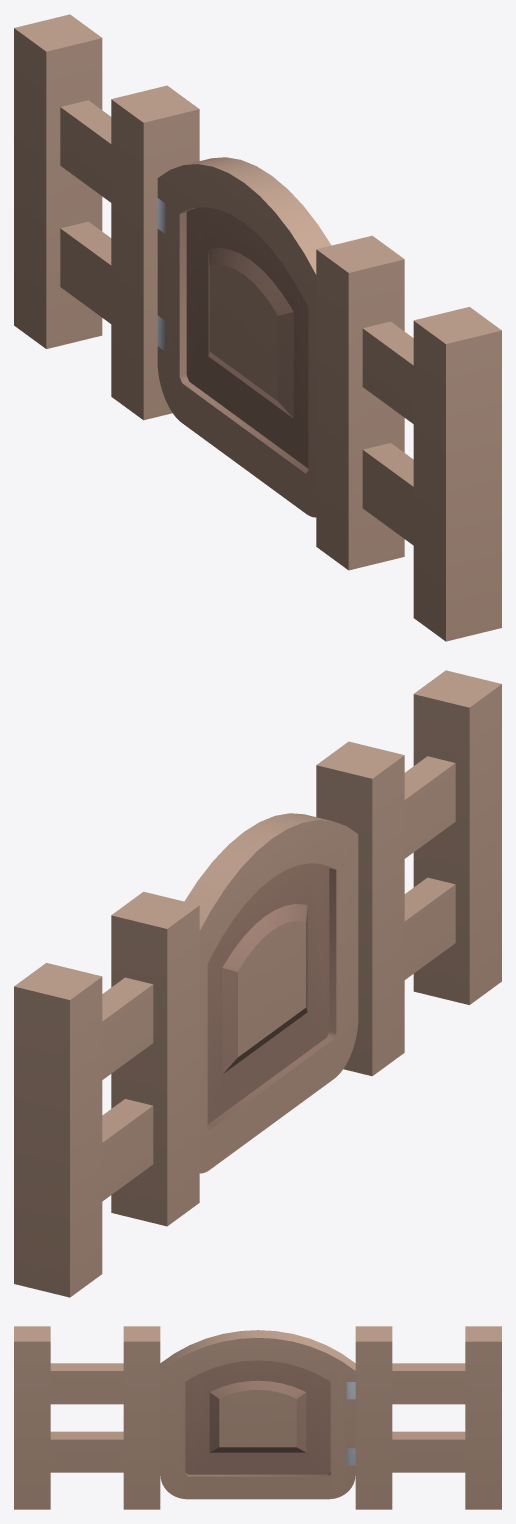
The model's file is fence-gate.glb.
The picture shows the model from 3 angles, top to bottom: view 1: azimuth 30°, elevation 25°; view 2: azimuth 150°, elevation 25°; view 3: azimuth 270°, elevation 25°; orthographic projection. The views are drawn at different scales.
Parts seen in each view (by area): view 1: fence-gate; view 2: fence-gate; view 3: fence-gate.
Part boxes in pixels (box(x1,y1,x2,y2)): fence-gate: box(14, 14, 501, 641); fence-gate: box(14, 670, 501, 1297); fence-gate: box(14, 1326, 501, 1509).
Bounding box in the file's own units: 0.075 × 0.38 × 1.
